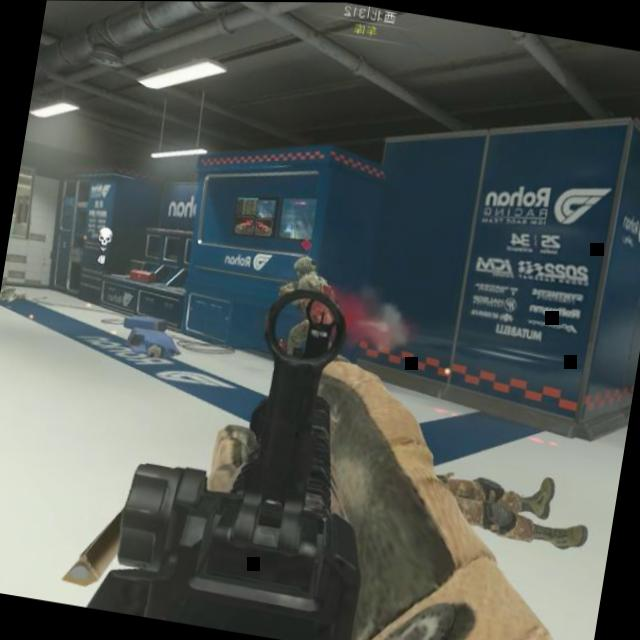MW2_body: (269, 235, 344, 359)
